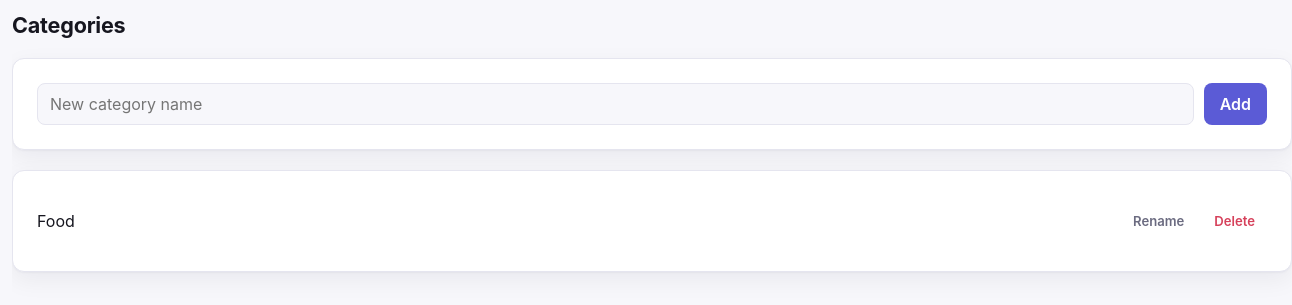
Scenario: CategoriesPage › renames a category
Check: the text "Food" is shown, box [37,211,75,231]
Click the button "Rename": click(1159, 221) [1121,207,1196,235]
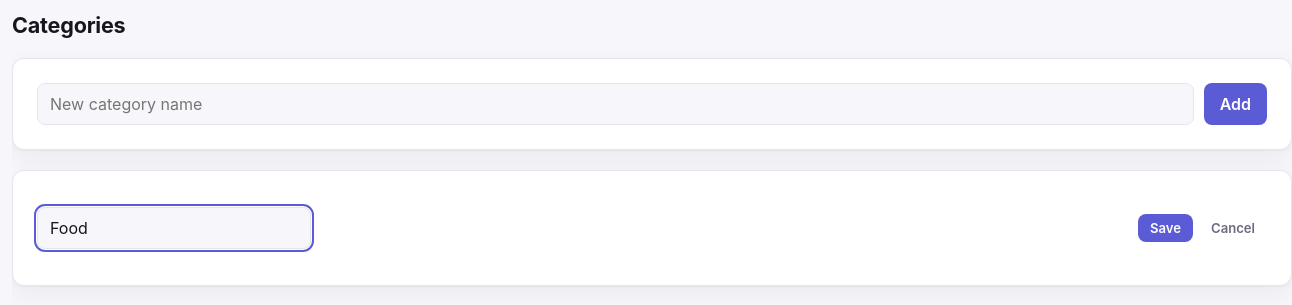
Replace the text in the field showing "Food" with "Groceries": (174, 228) [37,207,311,249]
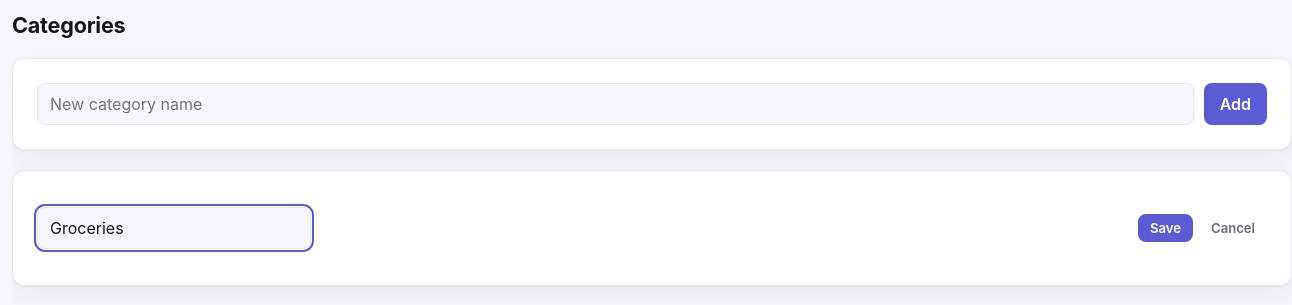
Click the button "Save": click(1165, 228) [1138,214,1193,242]
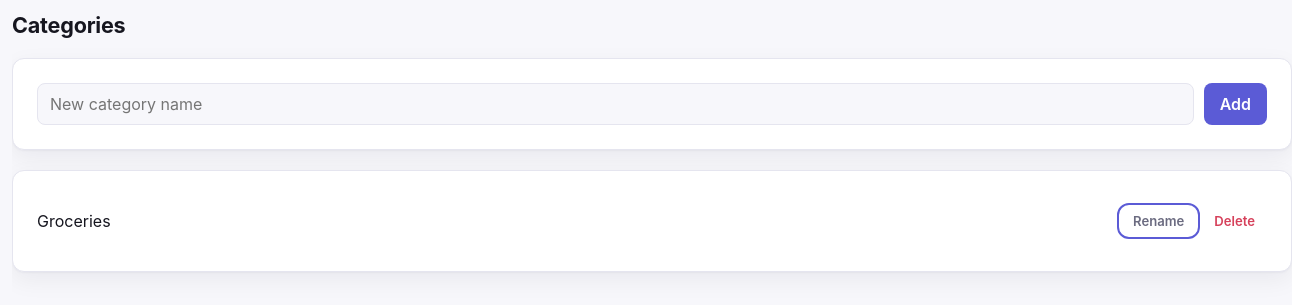
Check: the text "Groceries" is shown, box [37,211,111,231]
